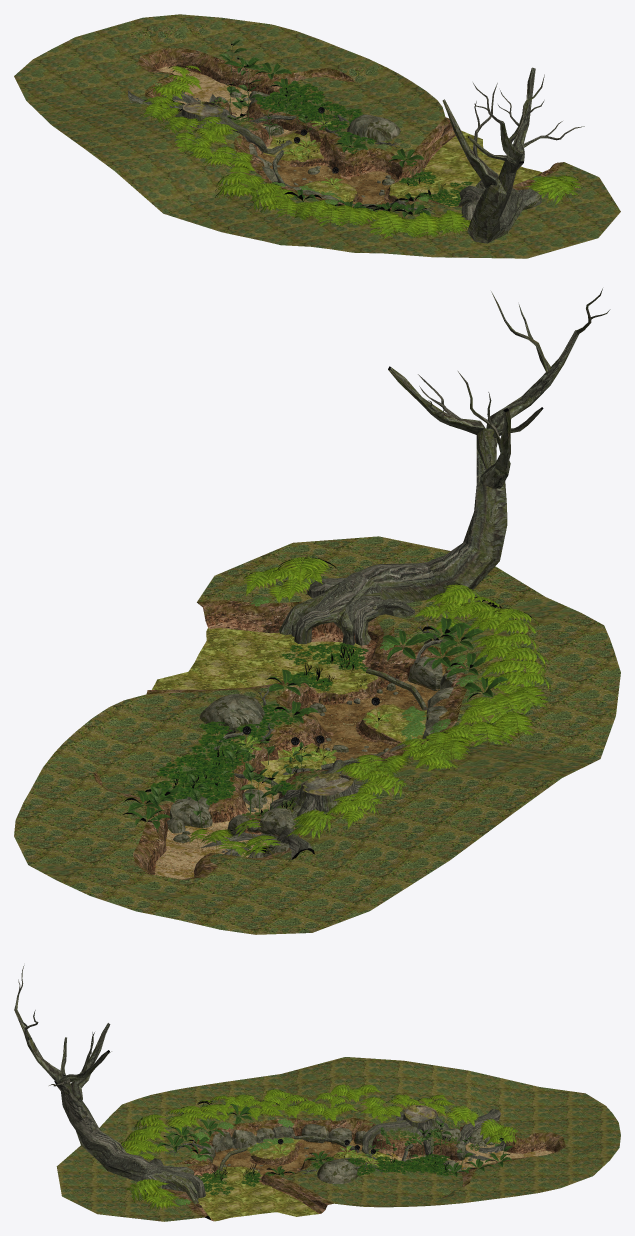
Rendered from P3+Title+Screen.glb.
3 views of the same model, one above another, from view 1: azimuth 30°, elevation 25°; view 2: azimuth 150°, elevation 25°; view 3: azimuth 270°, elevation 25° (orthographic). The views are drawn at different scales.
Visible parts, largest first — view 1: skp3BDA; view 2: skp3BDA; view 3: skp3BDA.
Part boxes in pixels (bbox=[...]): skp3BDA: bbox=[14, 14, 620, 258]; skp3BDA: bbox=[14, 288, 620, 934]; skp3BDA: bbox=[14, 965, 620, 1221].
Size of the model in its own units: 1504 by 946 by 2557.
15 materials, 15 textured.
